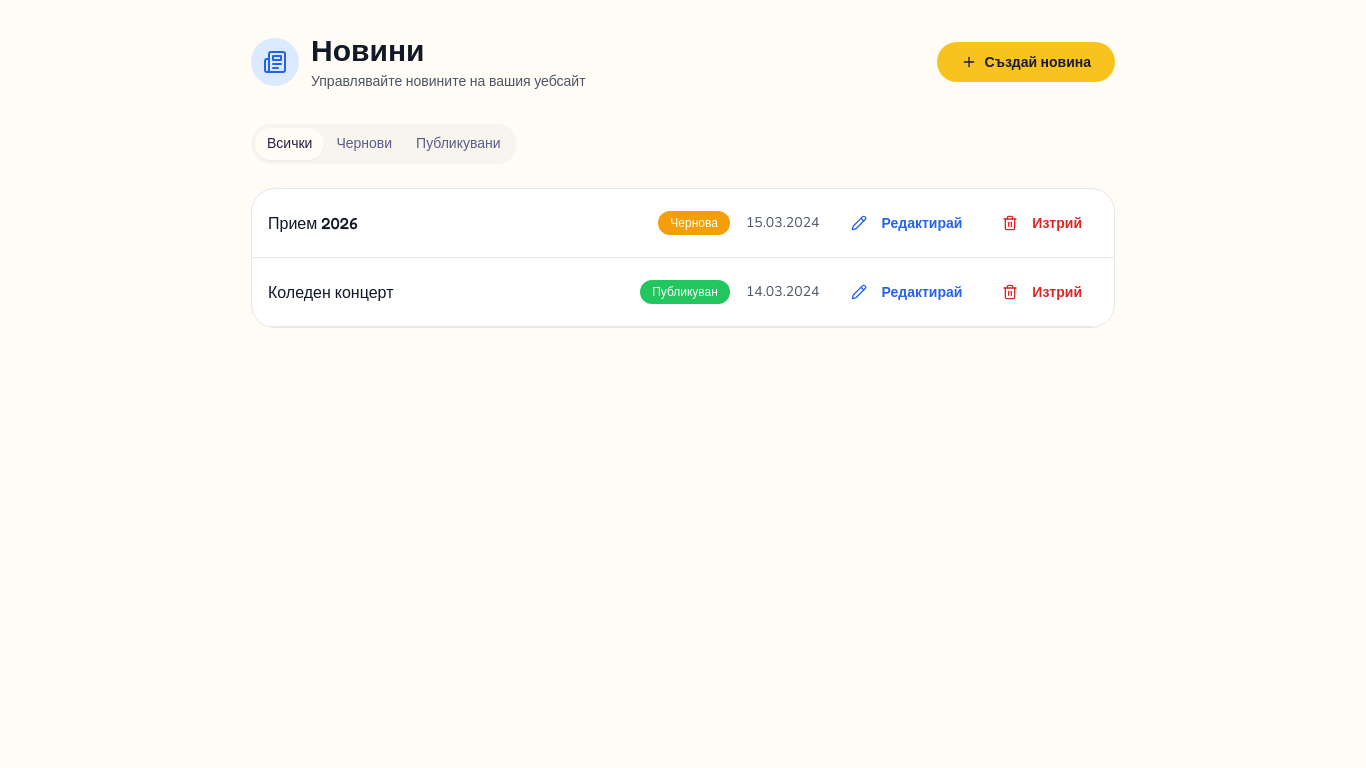
NewsList › Delete Functionality › closes dialog when Cancel is clicked
The image size is (1366, 768).
Click Delete button
Click the button "Изтрий" in the row of "15.03.2024". click: click(1042, 223)
box: [986,205,1098,241]
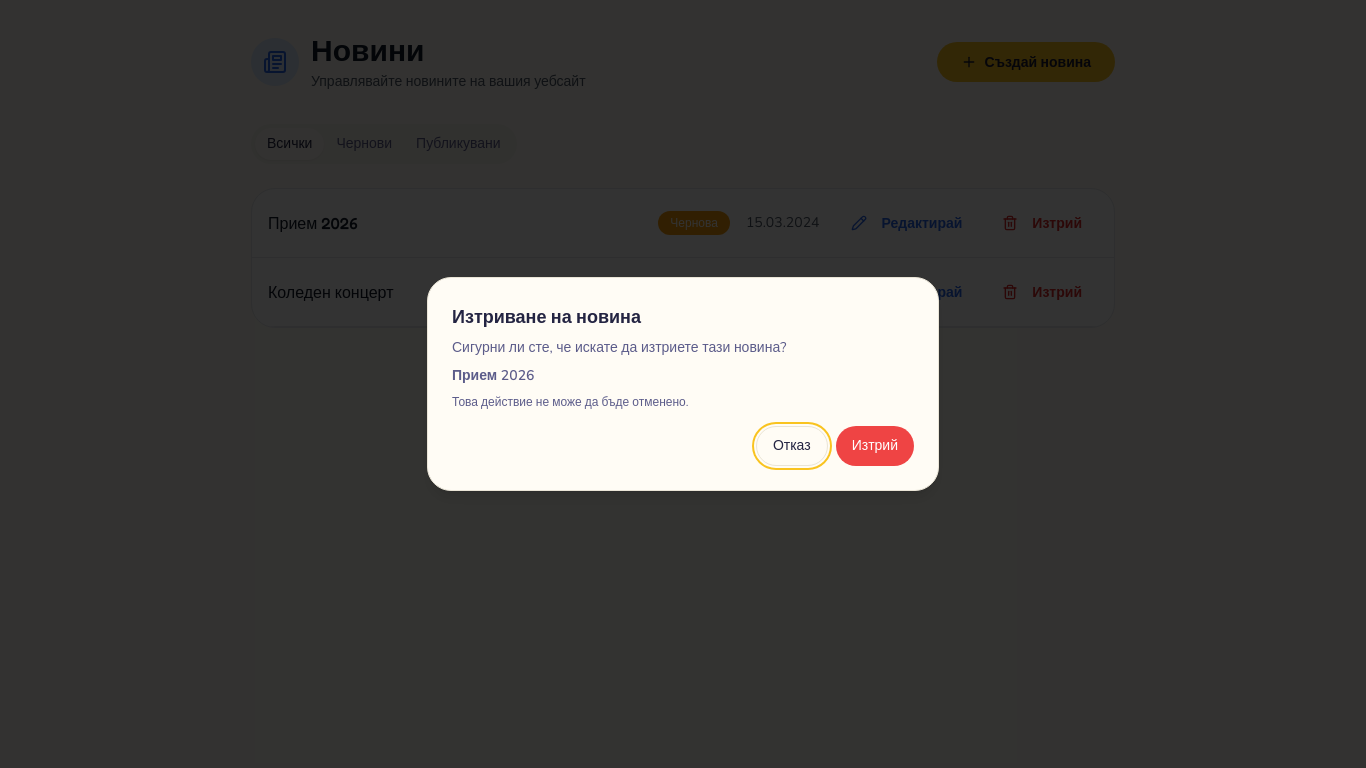
Check: the heading "Изтриване на новина" is shown, box [452,305,641,327]
Click Cancel button
Click the button "Отказ". click: click(792, 446)
box: [756,426,828,466]
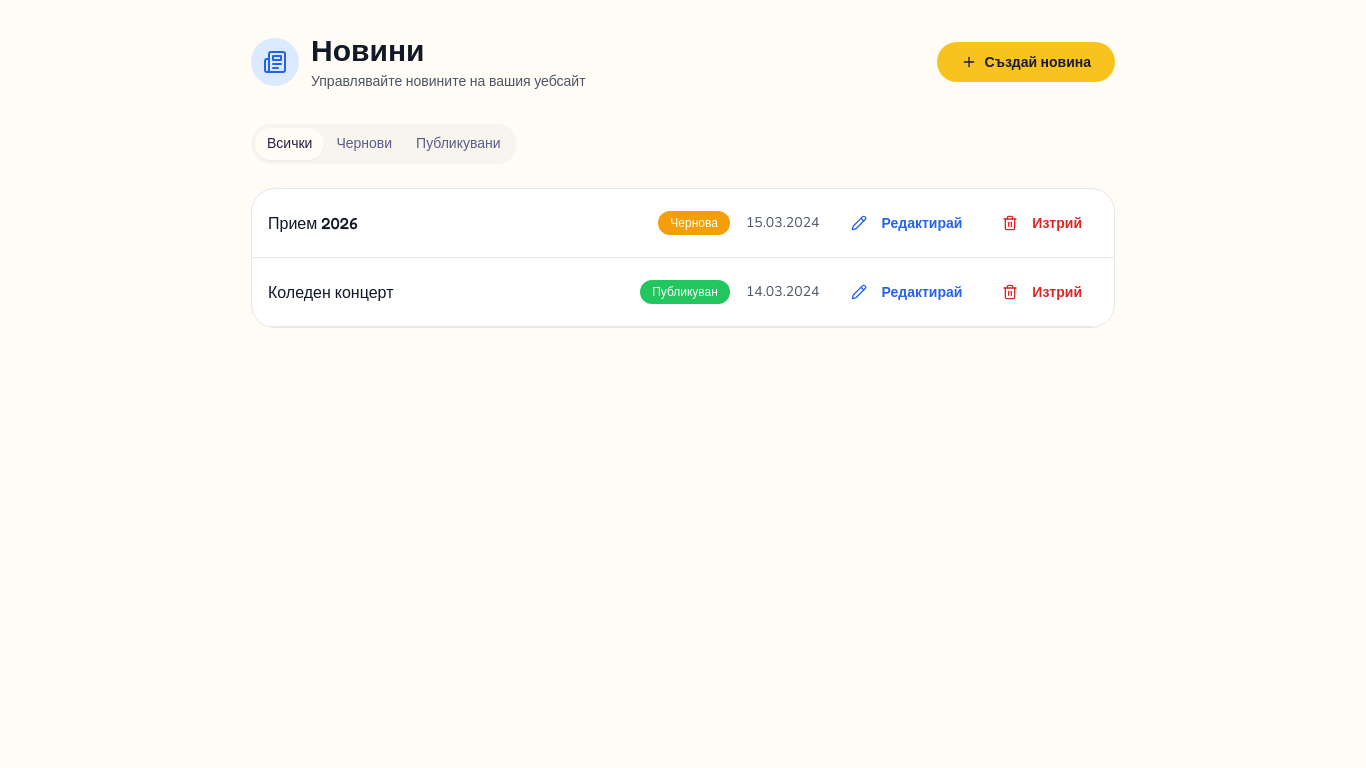
Check: the text "Това действие не може да бъде отменено" is gone
